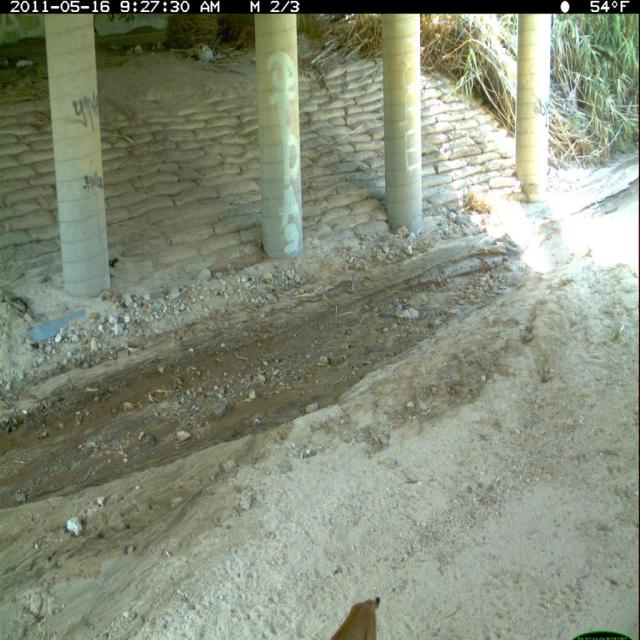bobcat: (321, 595, 383, 640)
